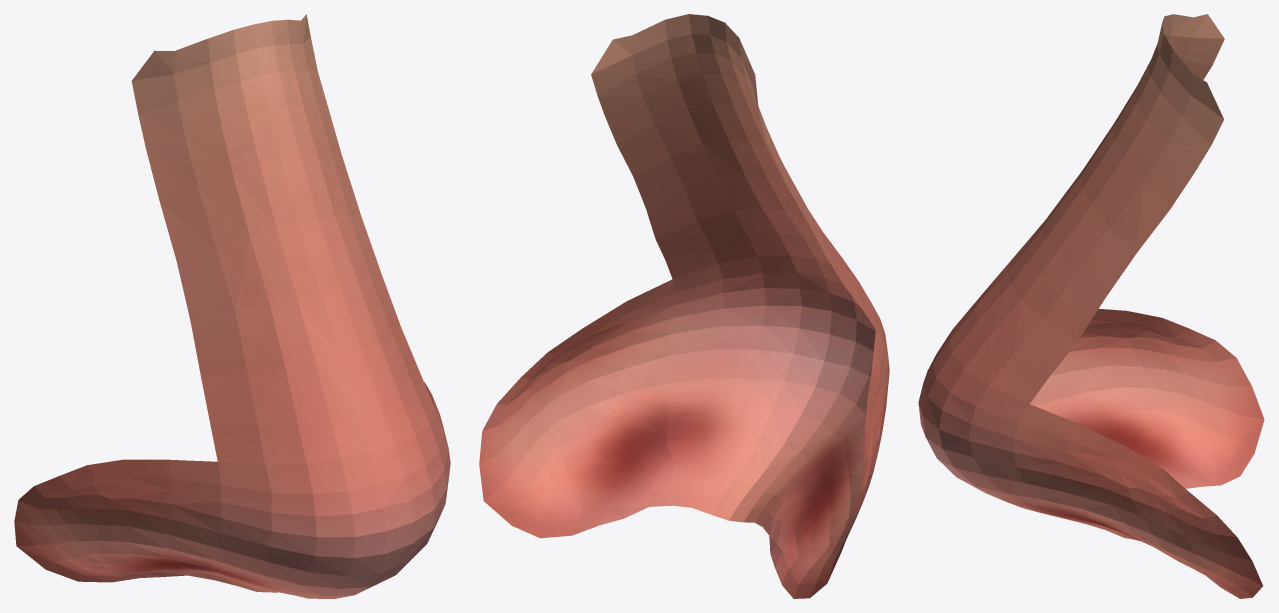
The model's file is euro-fem-nostril-tilt-up.obj.
The picture shows the model from 3 angles, left to right: view 1: azimuth 30°, elevation 25°; view 2: azimuth 150°, elevation 25°; view 3: azimuth 270°, elevation 25°; orthographic projection. The views are drawn at different scales.
Visible parts, largest first — view 1: euro-fem-nostril-up.002; view 2: euro-fem-nostril-up.002; view 3: euro-fem-nostril-up.002.
Part boxes in pixels (left/top/right/bottom): euro-fem-nostril-up.002: left=14, top=14, right=450, bottom=598; euro-fem-nostril-up.002: left=479, top=14, right=889, bottom=598; euro-fem-nostril-up.002: left=918, top=14, right=1264, bottom=598.
Size of the model in its own units: 0.1935 by 0.2613 by 0.1594.
Materials: 1 (1 with a texture image).
